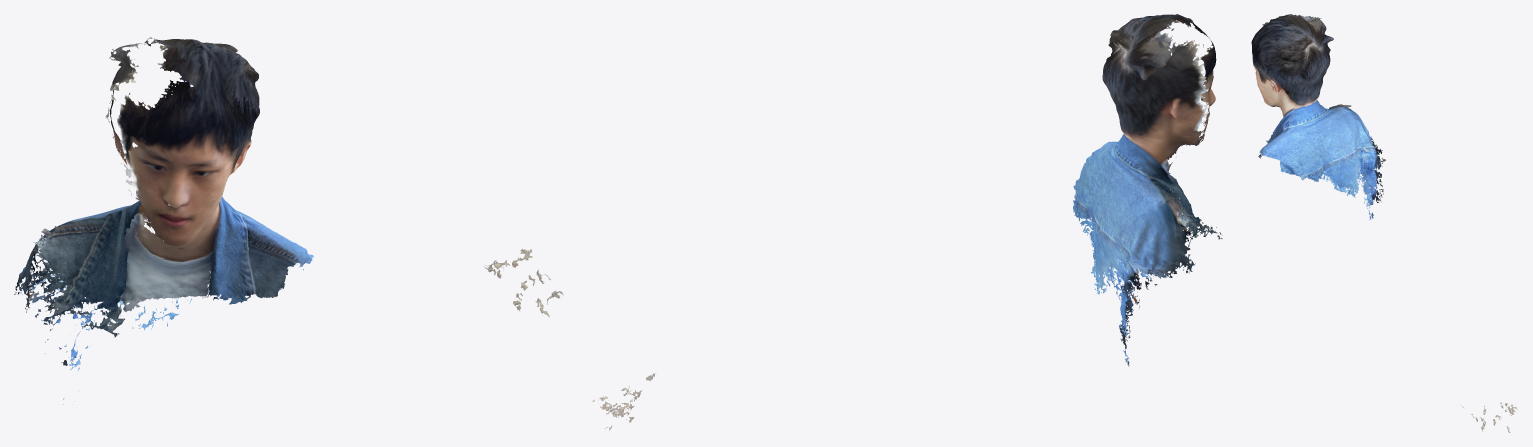
The model's file is johnBetter.glb.
The picture shows the model from 3 angles, left to right: view 1: azimuth 30°, elevation 25°; view 2: azimuth 150°, elevation 25°; view 3: azimuth 270°, elevation 25°; orthographic projection. The views are drawn at different scales.
Bounding box in the file's own units: 1.18 × 0.912 × 0.7945.
Materials: 1 (1 with a texture image).
